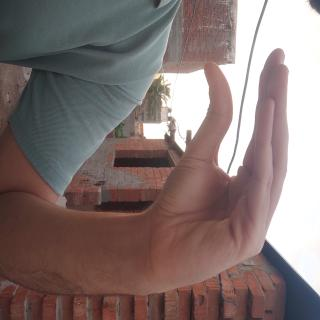JEEM: (30, 32, 231, 272)
